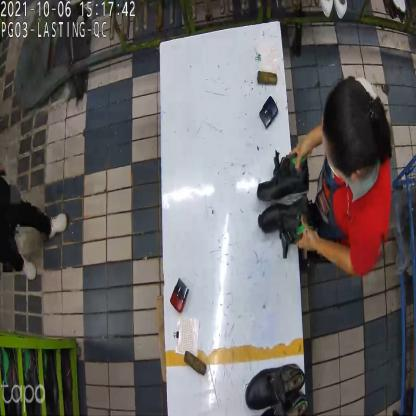shoes: (256, 150, 318, 261), (245, 367, 308, 415)
stamp: (258, 95, 278, 129), (171, 280, 191, 314)
